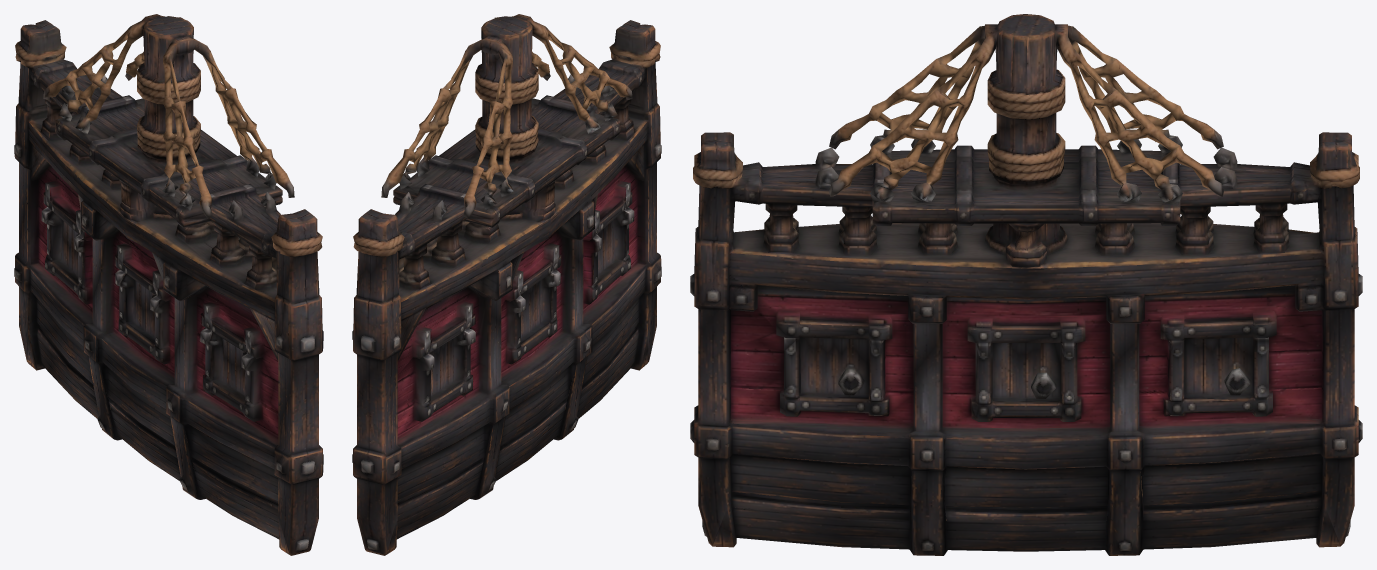
File: SM_Env_Hull.fbx
3 renders of one model, left to right at view 1: azimuth 30°, elevation 25°; view 2: azimuth 150°, elevation 25°; view 3: azimuth 270°, elevation 25°, orthographic. The views are drawn at different scales.
Visible parts, largest first — view 1: SM_Env_Hull; view 2: SM_Env_Hull; view 3: SM_Env_Hull.
Part boxes in pixels (<box>): SM_Env_Hull: <box>14,14,323,555</box>; SM_Env_Hull: <box>352,14,661,555</box>; SM_Env_Hull: <box>690,14,1362,555</box>.
Size of the model in its own units: 64.24 by 300 by 256.
Materials: 1 (1 with a texture image).
